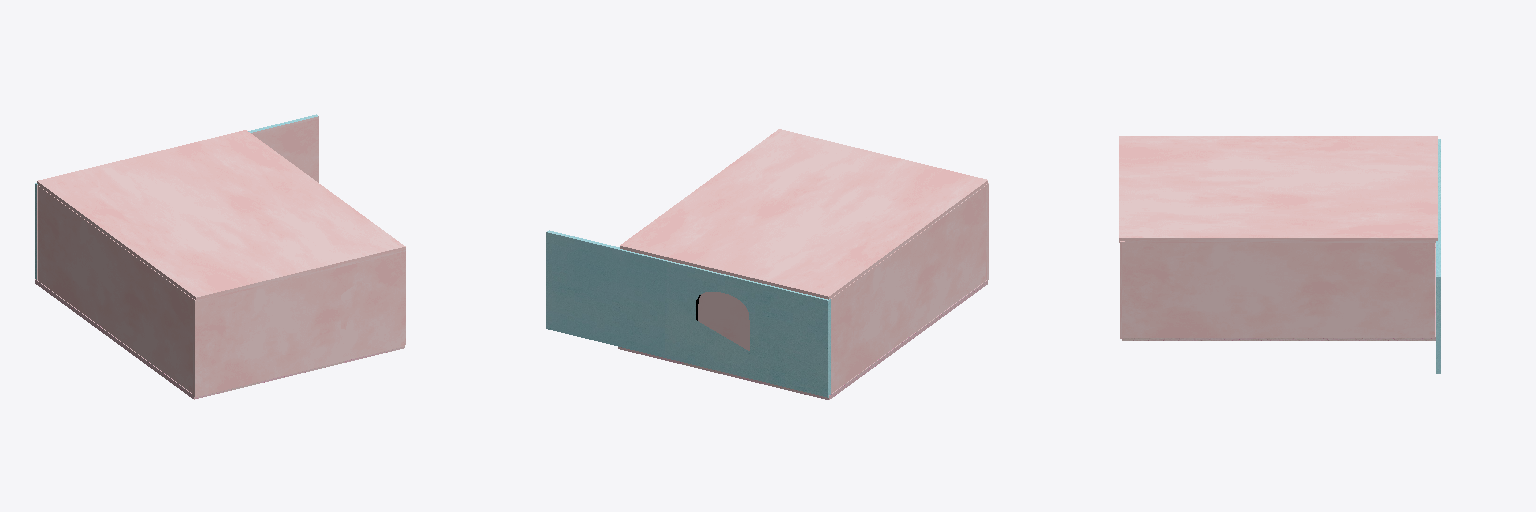
3 renders of one model, left to right at view 1: azimuth 30°, elevation 25°; view 2: azimuth 150°, elevation 25°; view 3: azimuth 270°, elevation 25°, orthographic.
Parts seen in each view (by area): view 1: group2polySurface892, polySurface896, polySurface891group2, polySurface895, group2polySurface894; view 2: group2polySurface892, polySurface895, polySurface891group2, group2polySurface894; view 3: group2polySurface892, group2polySurface893, group2polySurface894, polySurface895.
Part boxes in pixels (bbox=[...]): group2polySurface892: bbox=[37, 130, 405, 301]; polySurface896: bbox=[193, 251, 404, 396]; polySurface891group2: bbox=[38, 186, 192, 393]; polySurface895: bbox=[35, 114, 318, 279]; group2polySurface894: bbox=[35, 279, 404, 399]; group2polySurface892: bbox=[620, 129, 987, 299]; polySurface895: bbox=[546, 230, 830, 397]; polySurface891group2: bbox=[831, 186, 985, 393]; group2polySurface894: bbox=[618, 280, 987, 399]; group2polySurface892: bbox=[1119, 136, 1437, 242]; group2polySurface893: bbox=[1121, 242, 1434, 337]; group2polySurface894: bbox=[1122, 243, 1435, 340]; polySurface895: bbox=[1436, 139, 1440, 373].
Bounding box in the file's own units: 1.16 × 0.4043 × 1.15.
Materials: 9 (3 with a texture image).